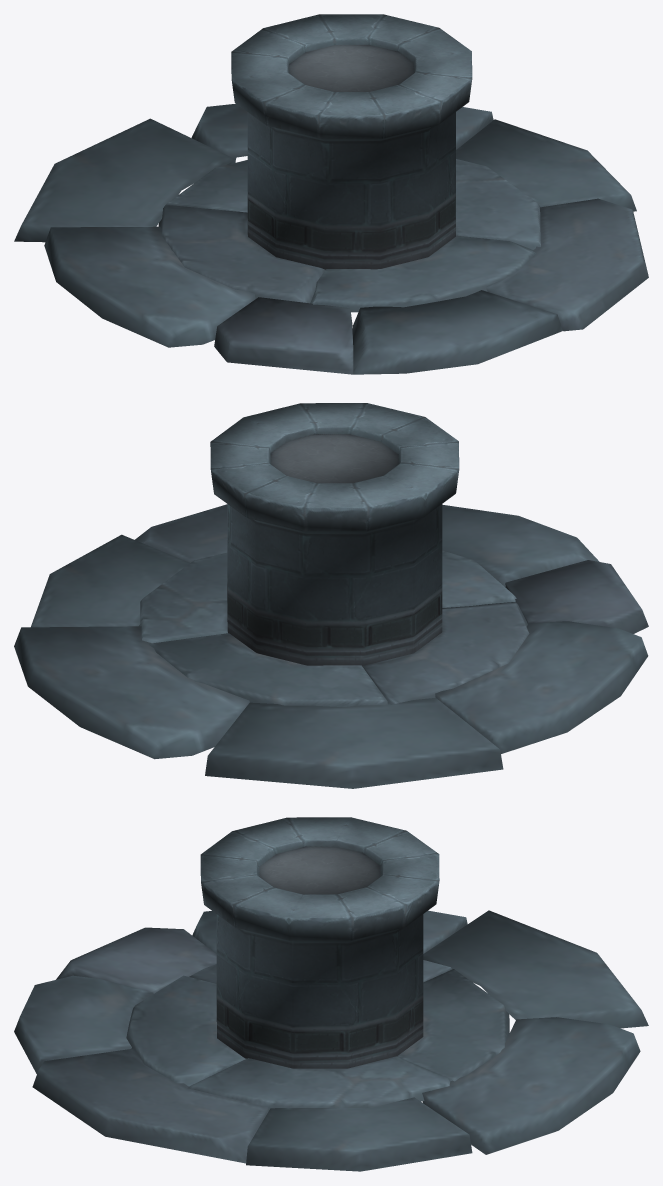
File: Area_15_16.fbx
3 views of the same model, one above another, from view 1: azimuth 30°, elevation 25°; view 2: azimuth 150°, elevation 25°; view 3: azimuth 270°, elevation 25° (orthographic). The views are drawn at different scales.
Parts seen in each view (by area): view 1: Area_15_16; view 2: Area_15_16; view 3: Area_15_16.
Part boxes in pixels (box(x1,y1,x2,y2)): Area_15_16: box(14, 14, 648, 374); Area_15_16: box(14, 403, 648, 788); Area_15_16: box(14, 817, 648, 1171).
Size of the model in its own units: 733 by 240 by 776.
